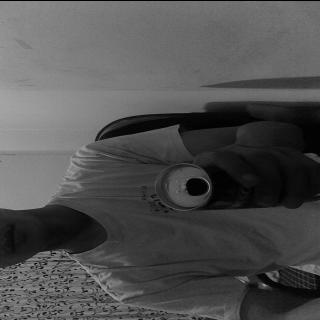alumunium_can: (152, 161, 320, 211)
